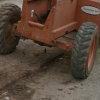Tractor: (6, 5, 100, 73)
